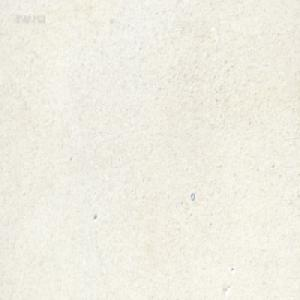Washer: (190, 191, 195, 201)
